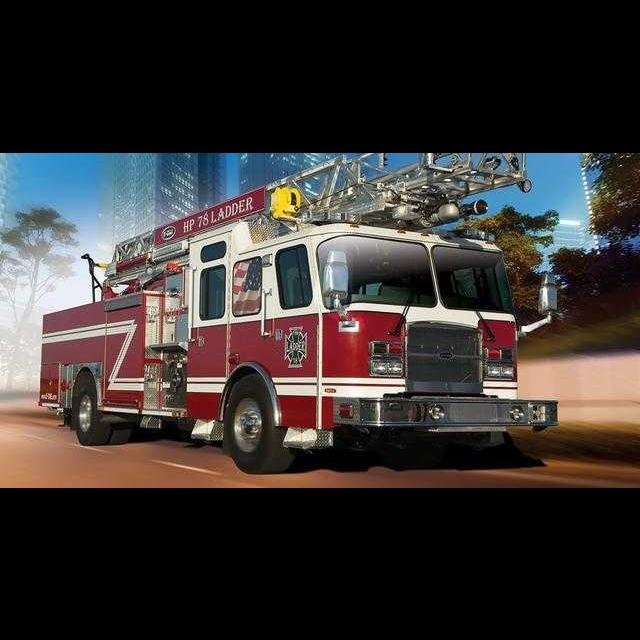emergency: (37, 152, 563, 472)
